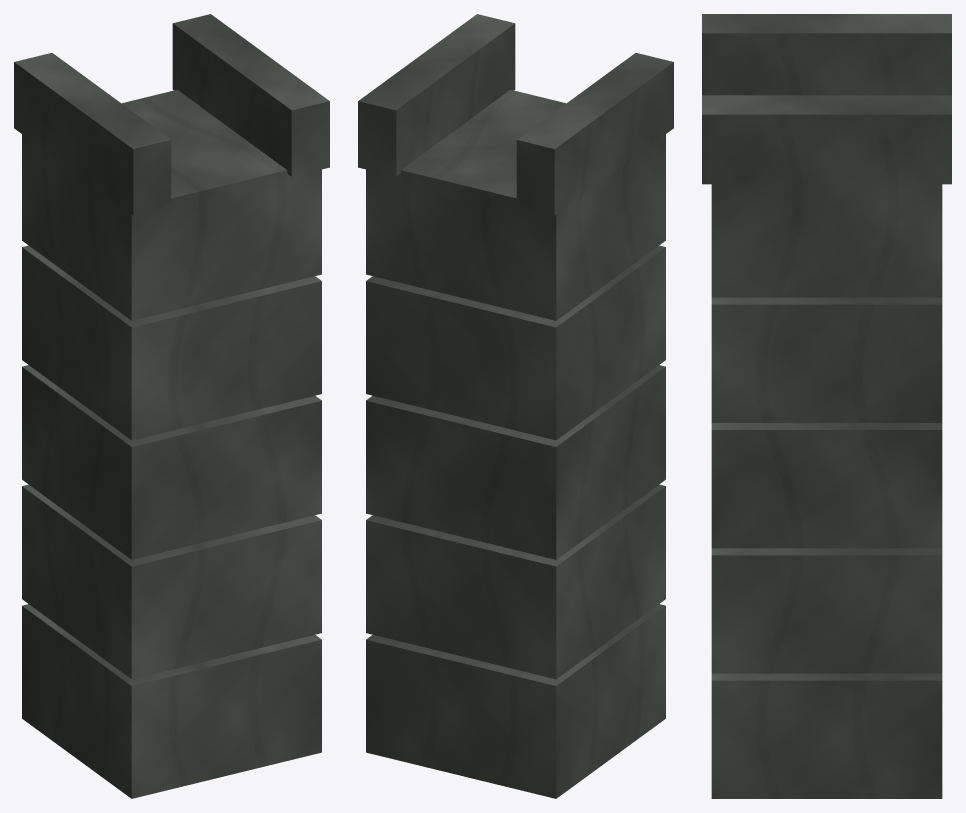
File: Chimney.glb
3 renders of one model, left to right at view 1: azimuth 30°, elevation 25°; view 2: azimuth 150°, elevation 25°; view 3: azimuth 270°, elevation 25°, orthographic. The views are drawn at different scales.
Visible parts, largest first — view 1: Chimney; view 2: Chimney; view 3: Chimney.
Boxes of the visible parts, x1,y1,x2,y2 form: Chimney: (14,14,329,798); Chimney: (358,14,673,798); Chimney: (702,14,951,798).
Size of the model in its own units: 0.62 by 1.97 by 0.65.
1 material, 1 textured.
